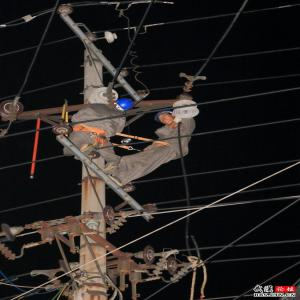blue: (153, 109, 177, 126), (114, 99, 137, 114)
